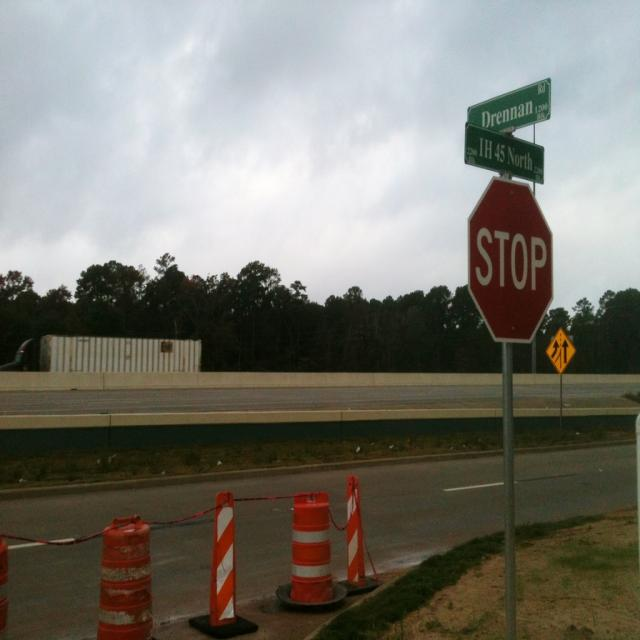Stop-sign: (466, 174, 554, 343)
